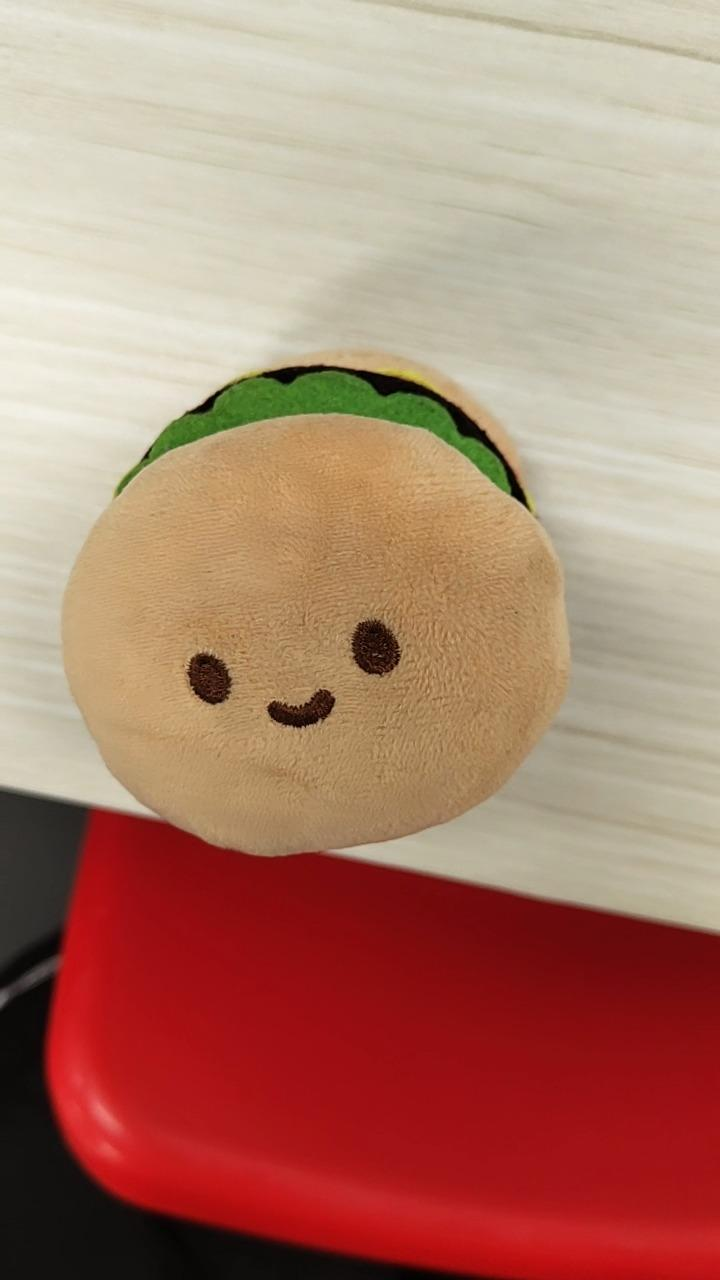hamburger: (58, 347, 572, 859)
